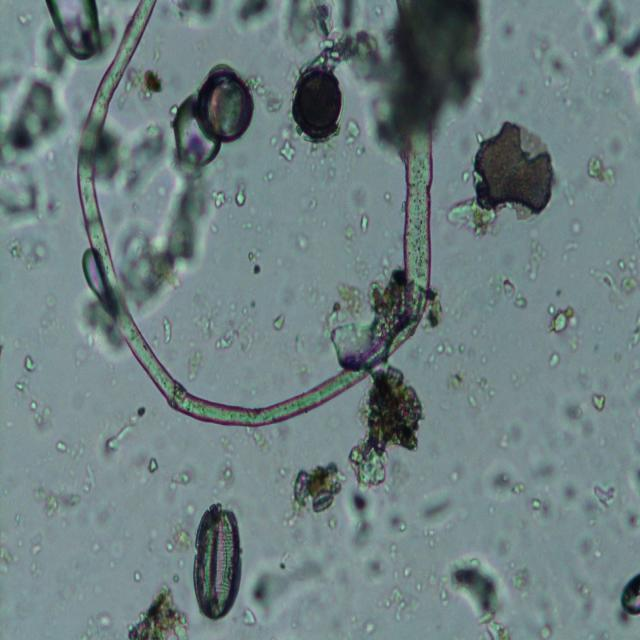Air bubble: (46, 1, 104, 59), (615, 570, 640, 616)
Background material: (116, 130, 217, 278), (382, 1, 485, 133), (168, 1, 377, 62), (0, 66, 68, 217), (350, 367, 436, 483), (163, 96, 225, 200), (315, 257, 376, 358), (443, 554, 514, 639), (249, 553, 337, 620), (524, 15, 576, 119), (16, 330, 62, 440), (354, 482, 401, 579), (483, 257, 533, 344), (201, 292, 261, 363), (118, 581, 192, 637), (530, 448, 576, 533), (289, 460, 349, 524), (31, 462, 95, 519), (439, 349, 491, 415), (580, 133, 622, 214), (152, 501, 199, 572), (580, 0, 640, 54), (595, 252, 640, 312), (475, 452, 517, 514), (117, 68, 170, 110), (206, 434, 240, 490), (454, 184, 492, 232), (250, 68, 284, 117), (157, 455, 193, 501), (266, 125, 302, 170), (5, 232, 43, 274), (486, 416, 526, 455), (546, 297, 583, 337), (523, 605, 559, 640), (386, 590, 424, 622), (23, 522, 45, 572), (568, 394, 592, 438), (345, 113, 365, 163), (507, 553, 531, 594), (104, 420, 132, 455), (590, 480, 621, 510), (501, 17, 525, 55), (627, 466, 640, 534), (527, 236, 545, 283), (422, 493, 452, 520), (39, 289, 59, 328), (292, 220, 313, 257), (243, 243, 263, 281), (578, 576, 594, 620), (0, 539, 18, 575), (87, 618, 116, 640), (236, 179, 252, 214), (137, 452, 163, 472), (544, 345, 563, 372), (626, 323, 640, 359), (156, 315, 172, 346), (61, 437, 85, 457), (589, 390, 607, 414), (360, 615, 378, 636), (13, 12, 35, 29), (270, 304, 286, 325), (359, 216, 372, 237), (400, 563, 416, 580), (136, 405, 150, 420)
Diatom: (475, 113, 555, 225), (191, 499, 246, 620), (198, 59, 254, 140), (292, 66, 345, 145)
Microfibre: (78, 1, 436, 430)
